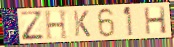1: (122, 5, 134, 38)
6: (97, 7, 116, 39)
H: (43, 9, 70, 41), (143, 6, 169, 36)
K: (72, 10, 92, 38)
Z: (19, 10, 47, 42)
